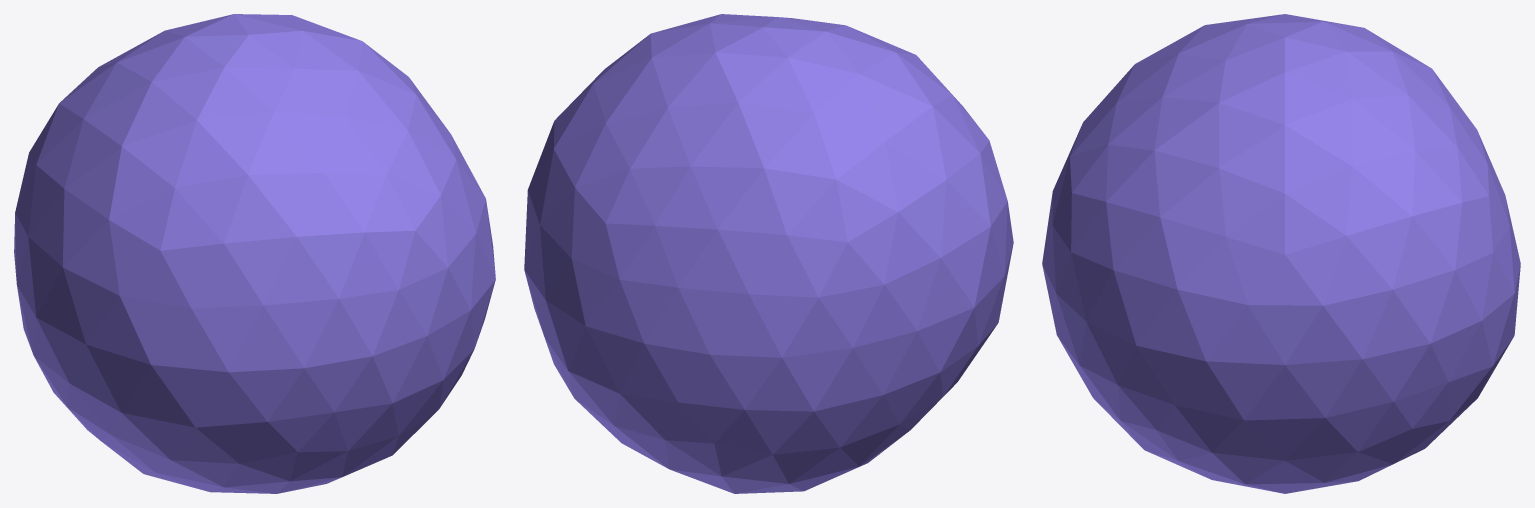
File: snowball.fbx
3 renders of one model, left to right at view 1: azimuth 30°, elevation 25°; view 2: azimuth 150°, elevation 25°; view 3: azimuth 270°, elevation 25°, orthographic.
Visible parts, largest first — view 1: SnowBall; view 2: SnowBall; view 3: SnowBall.
Boxes of the visible parts, bbox=[...] form: SnowBall: bbox=[14, 14, 495, 493]; SnowBall: bbox=[524, 14, 1013, 493]; SnowBall: bbox=[1042, 14, 1520, 493].
Bounding box in the file's own units: 143 × 143 × 143.
